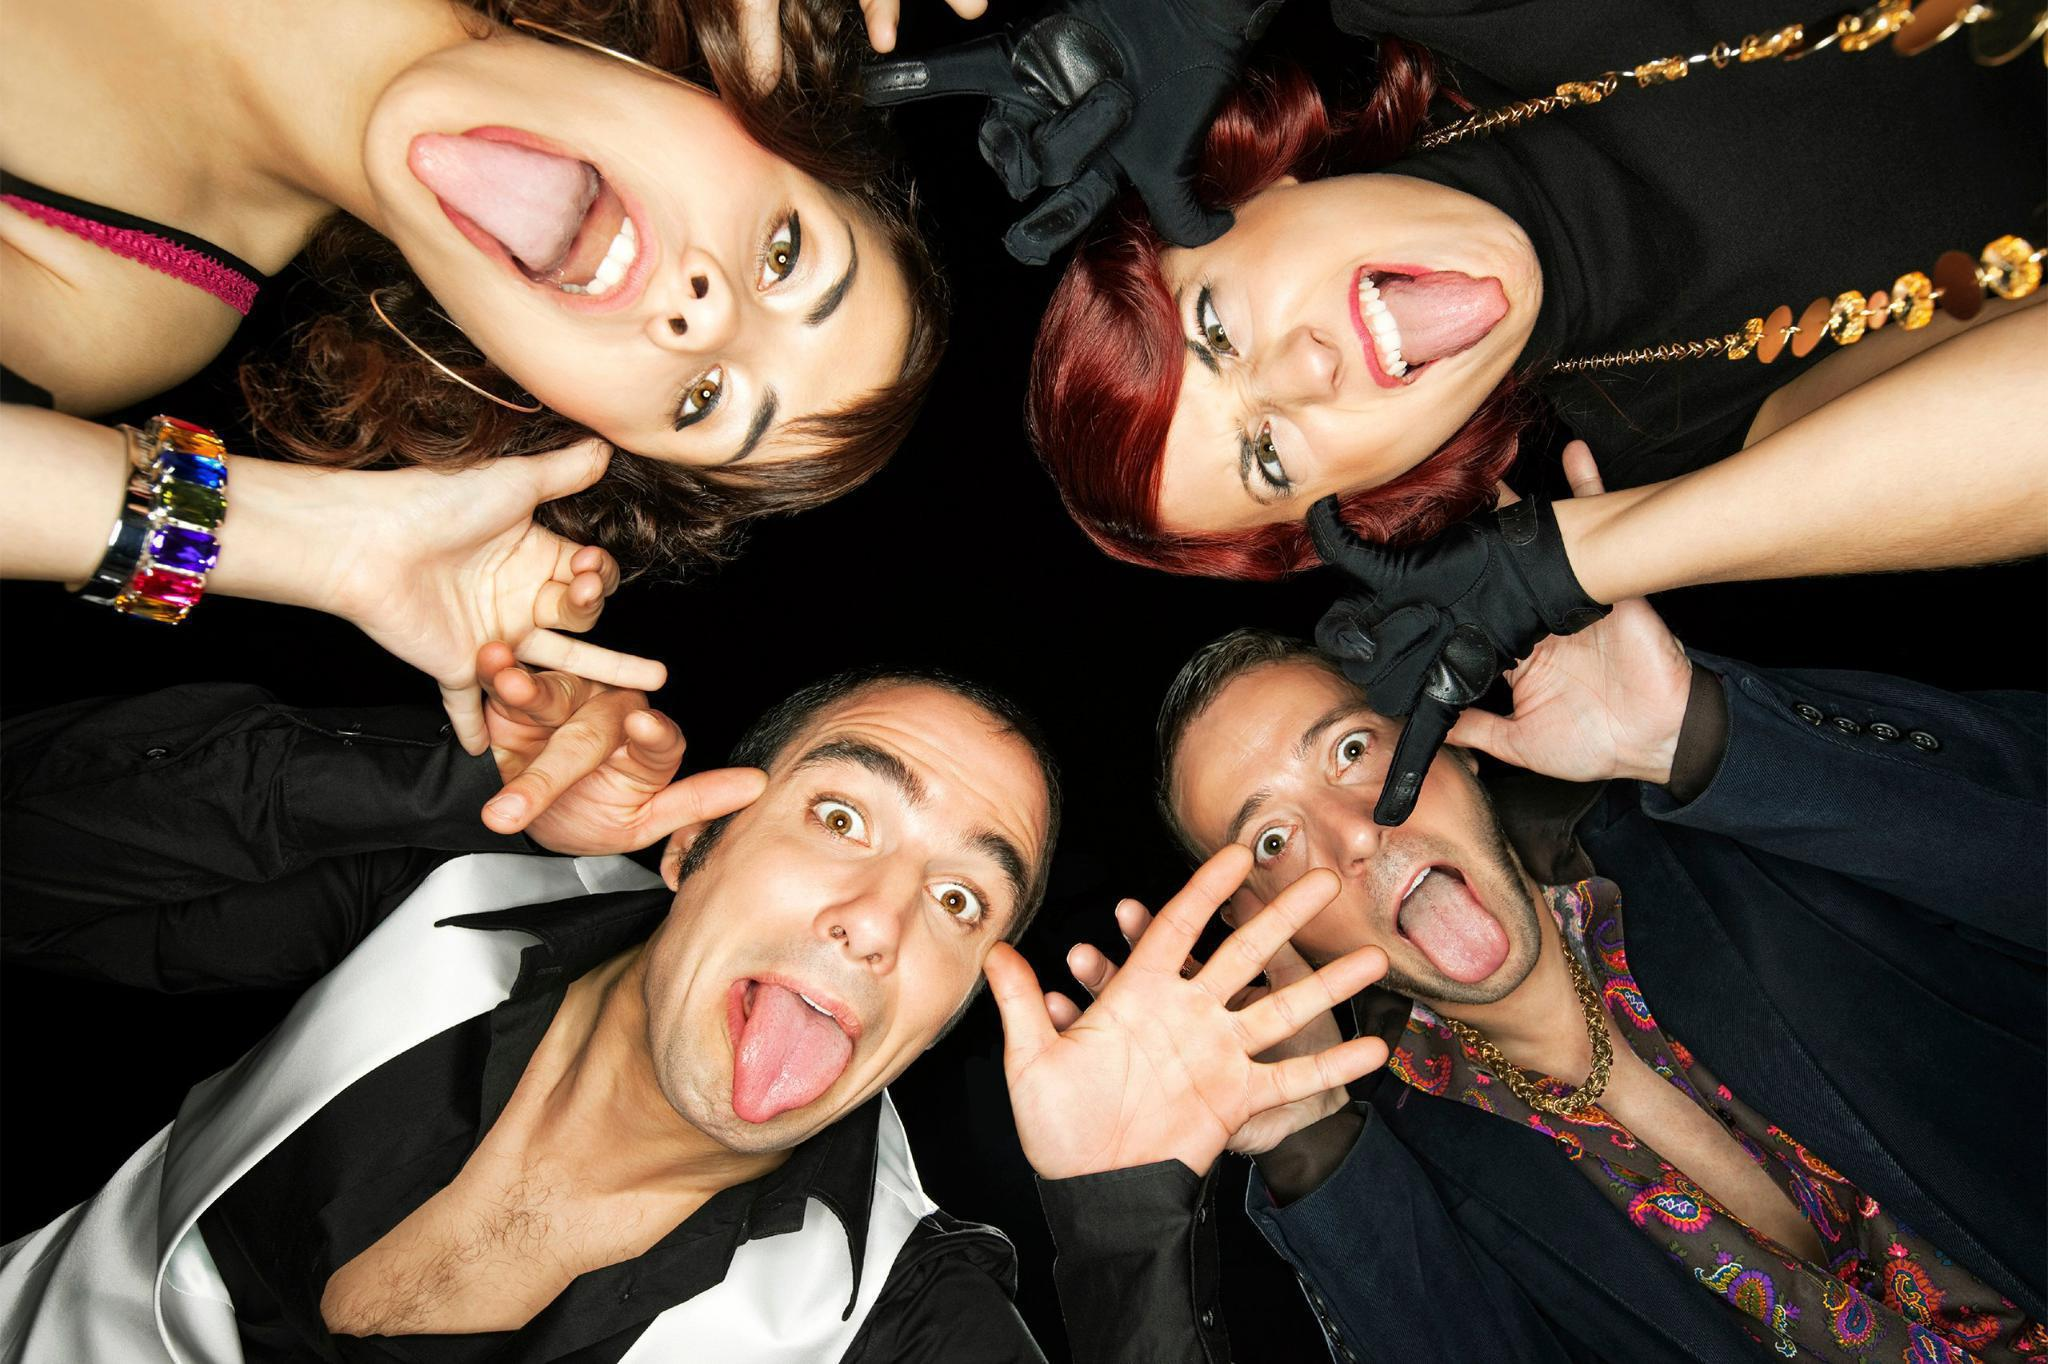Drunk: (365, 104, 907, 448), (1071, 212, 1547, 505), (654, 728, 980, 1125), (1181, 674, 1503, 999)
